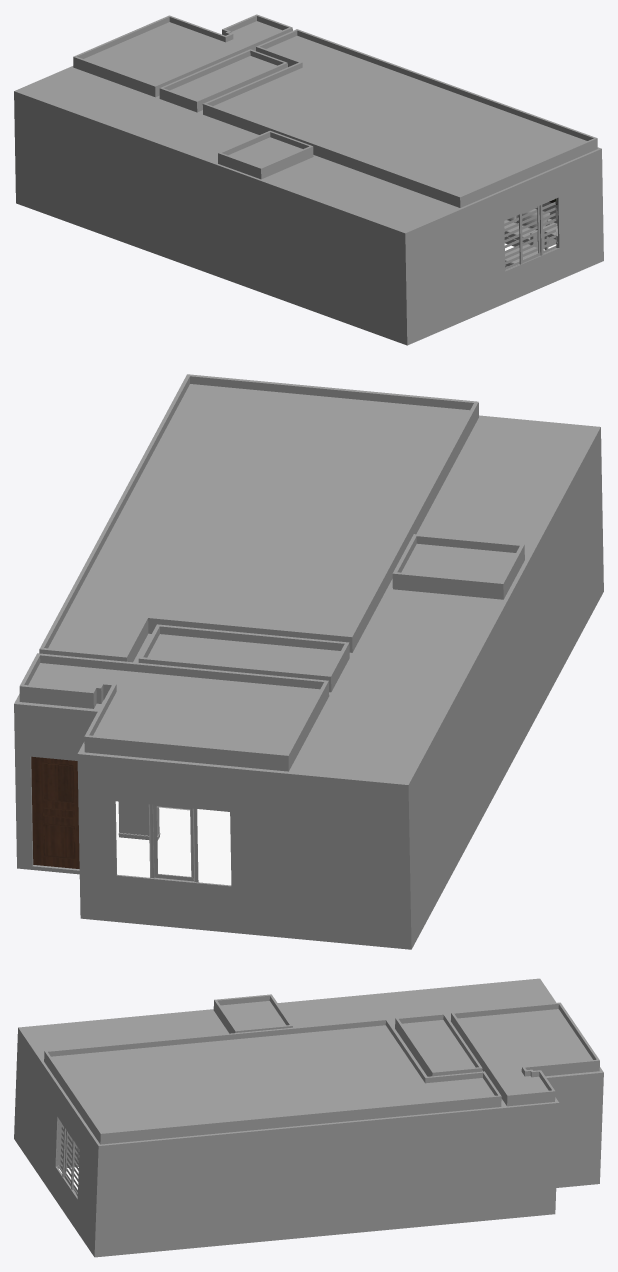
File: Living_Room_Lowpoly.glb
The picture shows the model from 3 angles, top to bottom: view 1: azimuth 30°, elevation 25°; view 2: azimuth 150°, elevation 25°; view 3: azimuth 270°, elevation 25°; orthographic projection. The views are drawn at different scales.
Parts seen in each view (by area): view 1: Wall_Out_lambert36_0, Ceil_Out_lambert37_0, Face_Baraye_Shadow_Parde_Mesh, polySurface1845_lambert10_0, Ss1:Ss_Mesh20_lambert56_0; view 2: Wall_Out_lambert36_0, Ceil_Out_lambert37_0, polySurface1891_lambert40_0, polySurface1636_lambert58_0, Ss1:Ss_Mesh20_lambert56_0, polySurface1874_lambert57_0; view 3: Wall_Out_lambert36_0, Ceil_Out_lambert37_0, Ss1:Ss_Mesh20_lambert56_0, Face_Baraye_Shadow_Parde_Mesh.
Part boxes in pixels (x1,y1,x2,y2): Wall_Out_lambert36_0: (14,66,603,345); Ceil_Out_lambert37_0: (73,14,597,207); Face_Baraye_Shadow_Parde_Mesh: (504,199,556,269); polySurface1845_lambert10_0: (504,215,557,267); Ss1:Ss_Mesh20_lambert56_0: (505,198,558,270); Wall_Out_lambert36_0: (14,415,603,949); Ceil_Out_lambert37_0: (19,374,524,771); polySurface1891_lambert40_0: (115,801,231,885); polySurface1636_lambert58_0: (31,756,79,868); Ss1:Ss_Mesh20_lambert56_0: (115,801,231,886); polySurface1874_lambert57_0: (118,801,159,835); Wall_Out_lambert36_0: (14,978,603,1257); Ceil_Out_lambert37_0: (44,994,599,1144); Ss1:Ss_Mesh20_lambert56_0: (56,1117,77,1198); Face_Baraye_Shadow_Parde_Mesh: (60,1124,79,1192).
Bounding box in the file's own units: 157 × 56.19 × 216.
Materials: 59 (4 with a texture image).
